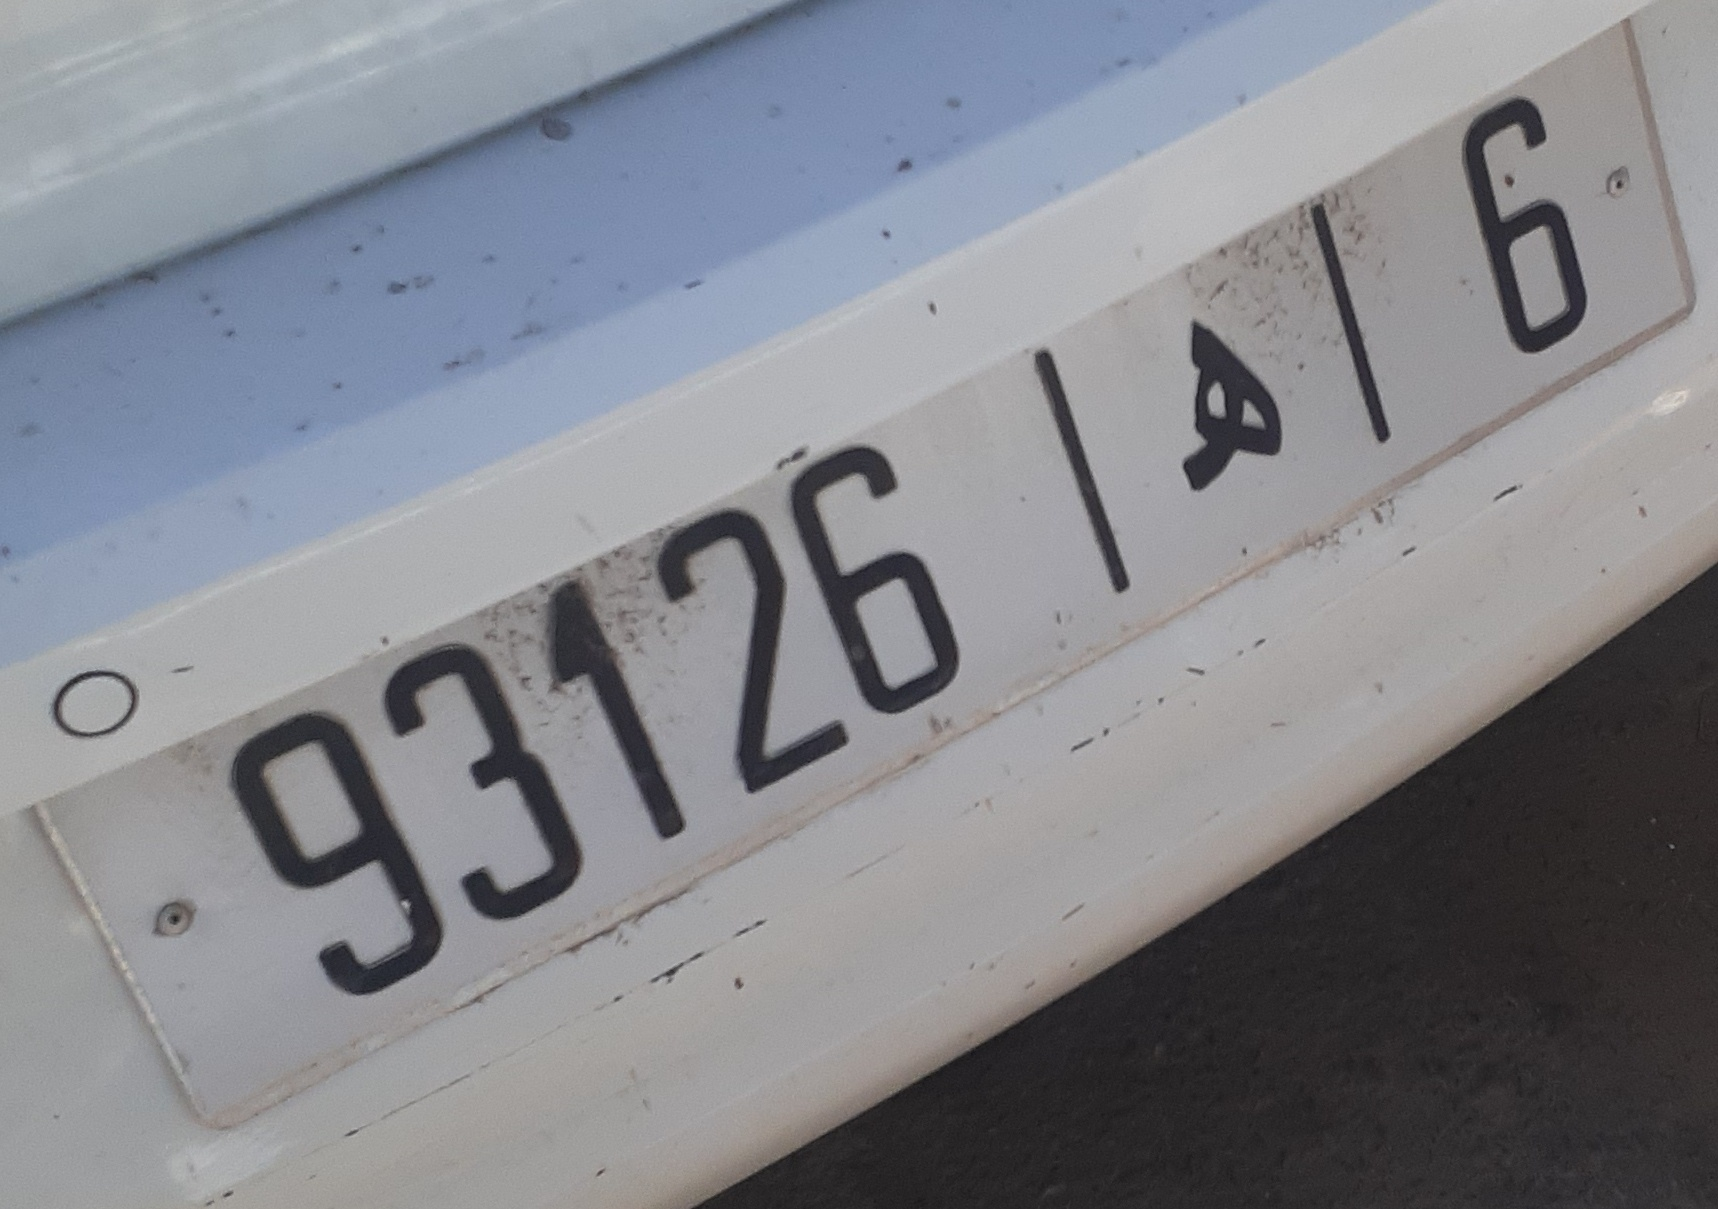1: (516, 571, 701, 869)
2: (654, 509, 821, 799)
3: (355, 647, 590, 940)
6: (777, 442, 970, 726), (1439, 94, 1605, 360)
9: (221, 691, 449, 1001)
h: (1128, 307, 1307, 506)
